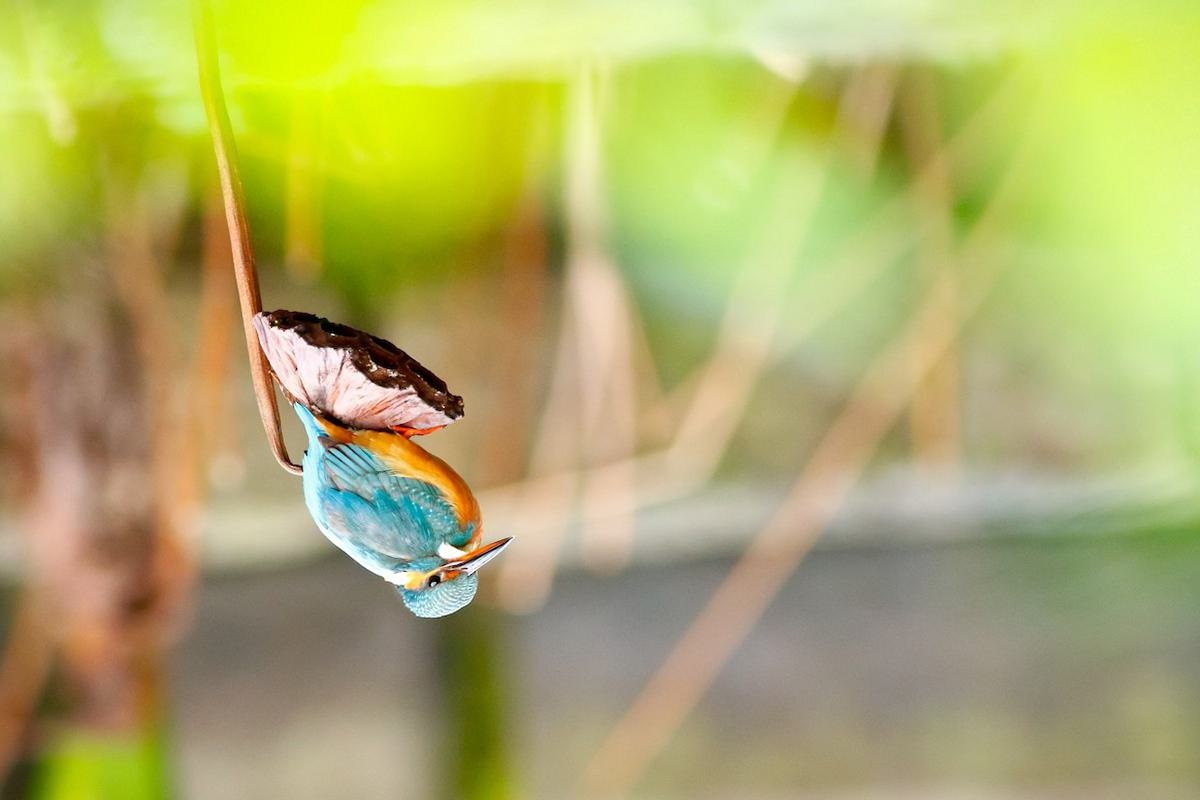kingfisher: (274, 379, 506, 634)
